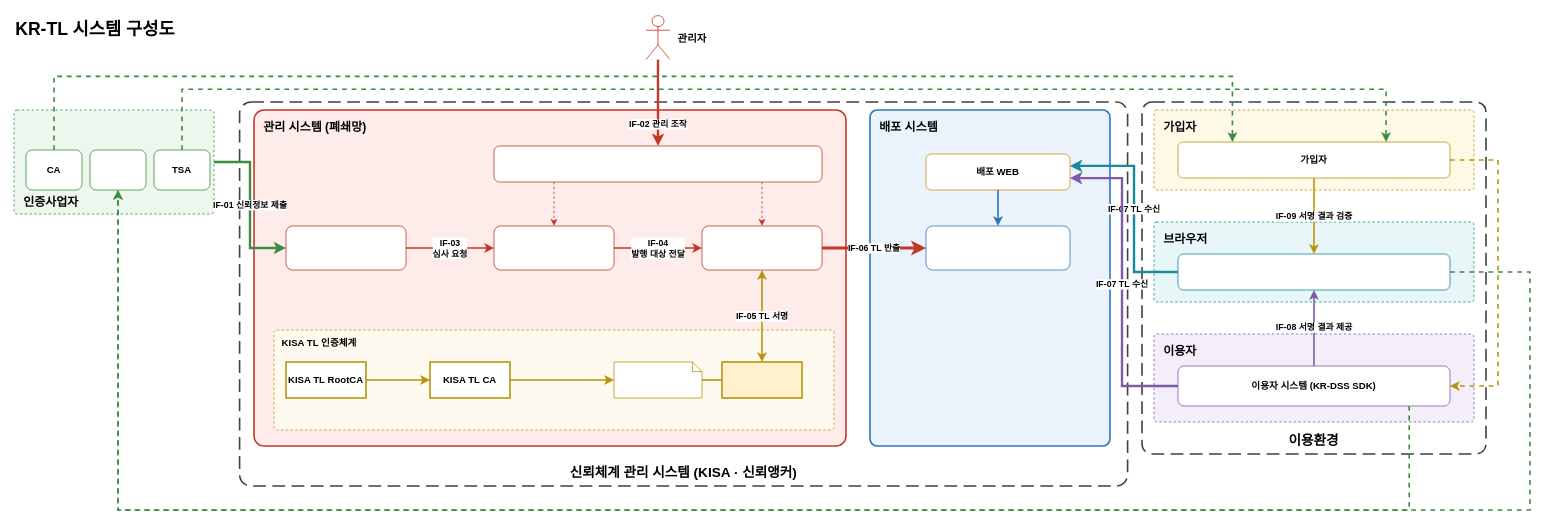
Image size: 1551x530. Some labels were removed from this diagram. The centre of each missing label's shape, as x and y in pixels:
"HSM" belongs at (761,379).
"OCSP" belongs at (117,169).
"TL 발행 서버" belongs at (761,247).
"TL 서명 인증서" belongs at (657,379).
"관리 콘솔" belongs at (657,163).
"배포 WAS" belongs at (997,247).
"사업자 연계 서버" belongs at (345,247).
"신뢰정보 관리 서버" belongs at (553,247).
"웨일 브라우저" belongs at (1313,271).
